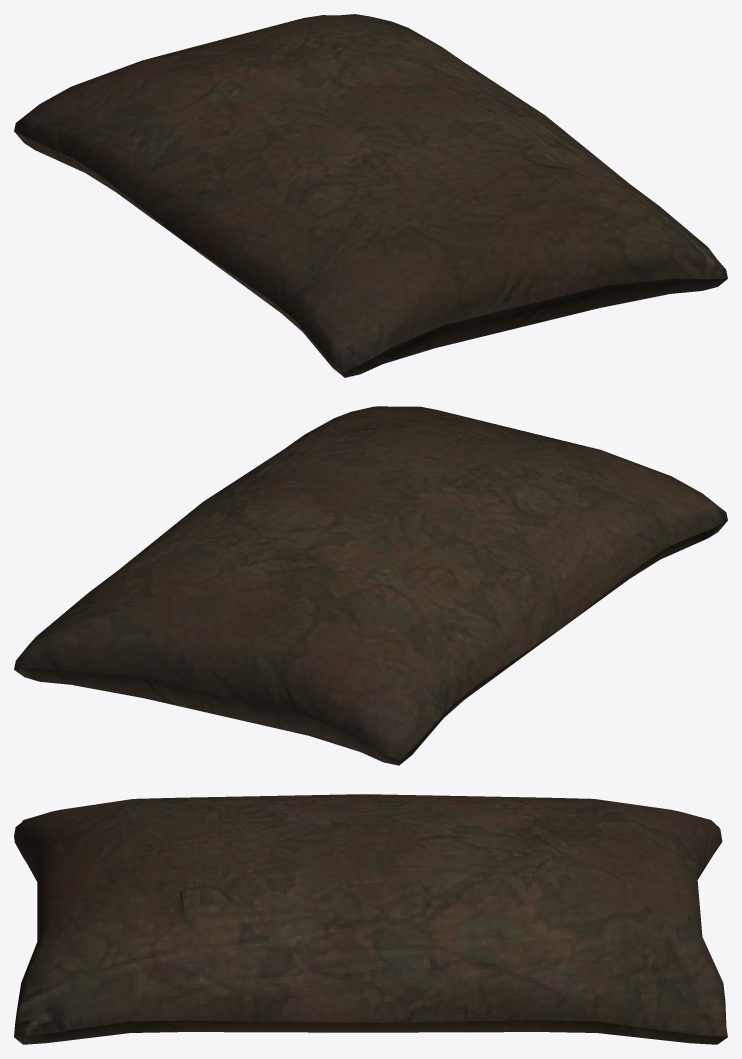
The model's file is pillow_mp_2.glb.
The picture shows the model from 3 angles, top to bottom: view 1: azimuth 30°, elevation 25°; view 2: azimuth 150°, elevation 25°; view 3: azimuth 270°, elevation 25°; orthographic projection. The views are drawn at different scales.
Parts seen in each view (by area): view 1: pillow_mp_2; view 2: pillow_mp_2; view 3: pillow_mp_2.
Part boxes in pixels (x1,y1,x2,y2): pillow_mp_2: (14,14,727,377); pillow_mp_2: (14,406,727,765); pillow_mp_2: (14,794,727,1044).
Size of the model in its own units: 0.5481 by 0.1624 by 0.814.
1 material, 1 textured.
